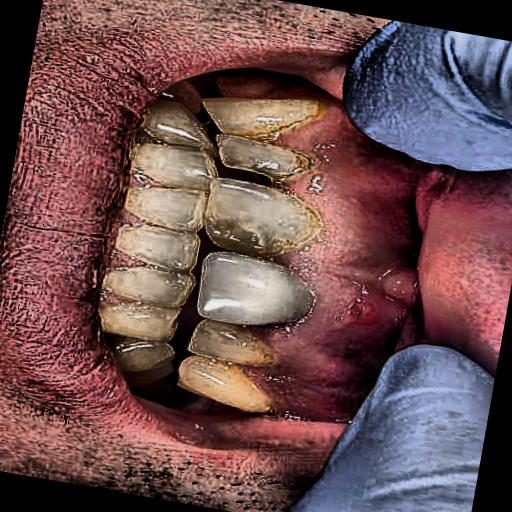Calculus: (169, 80, 342, 428), (88, 78, 220, 362)
